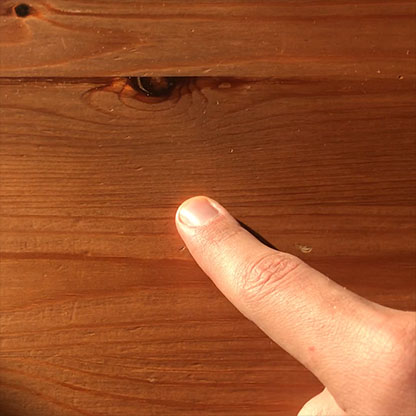fingertip: (163, 180, 233, 245)
